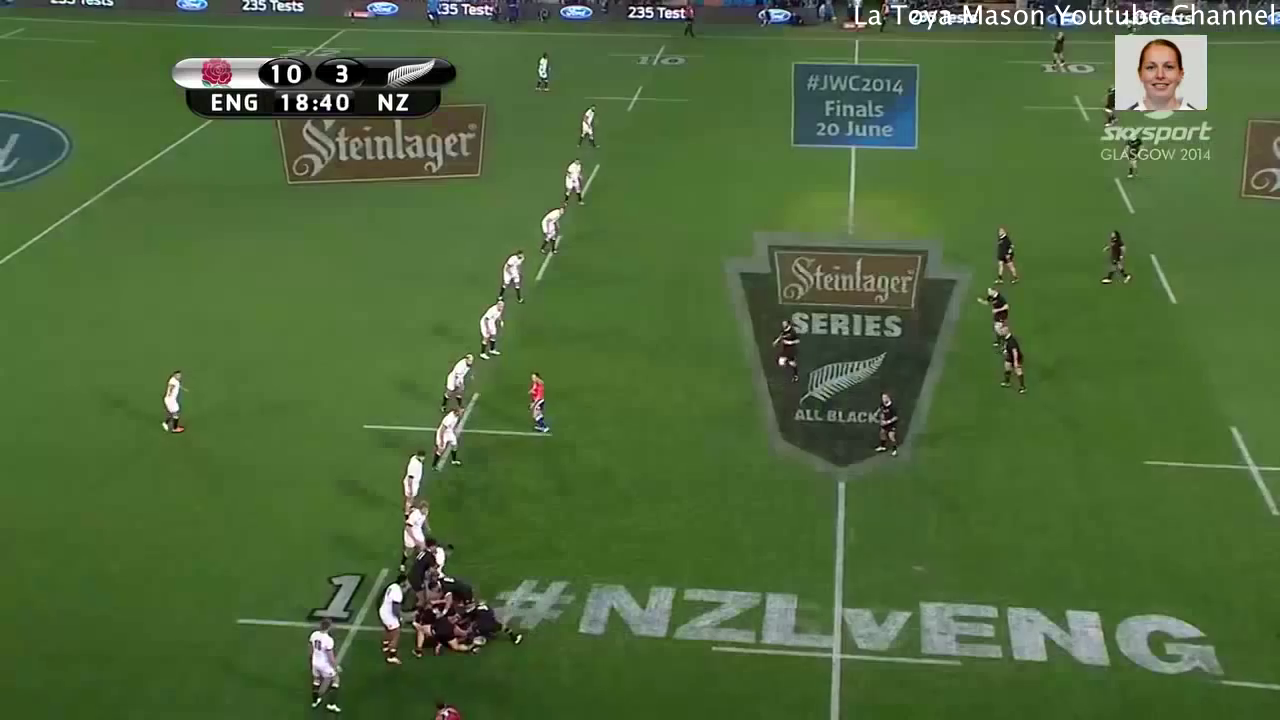10_metre: (233, 563, 490, 688), (359, 389, 561, 471), (1138, 419, 1280, 521), (580, 81, 693, 118), (1024, 91, 1119, 130), (605, 42, 703, 72), (1002, 47, 1107, 75)
player: (307, 619, 347, 717), (372, 568, 410, 666), (154, 365, 197, 439), (439, 349, 480, 412), (430, 404, 464, 477), (399, 495, 435, 563), (1097, 228, 1137, 289), (997, 321, 1029, 396), (770, 316, 805, 384), (473, 297, 509, 361), (871, 389, 903, 459), (992, 226, 1025, 291), (524, 366, 553, 437), (401, 448, 431, 514), (555, 156, 589, 210), (535, 205, 568, 260), (496, 248, 526, 308), (575, 100, 601, 150), (975, 283, 1009, 321), (427, 578, 476, 602), (531, 48, 554, 93), (1121, 136, 1144, 180), (1050, 30, 1070, 67), (1102, 84, 1119, 124)
ruck: (394, 562, 529, 660)
